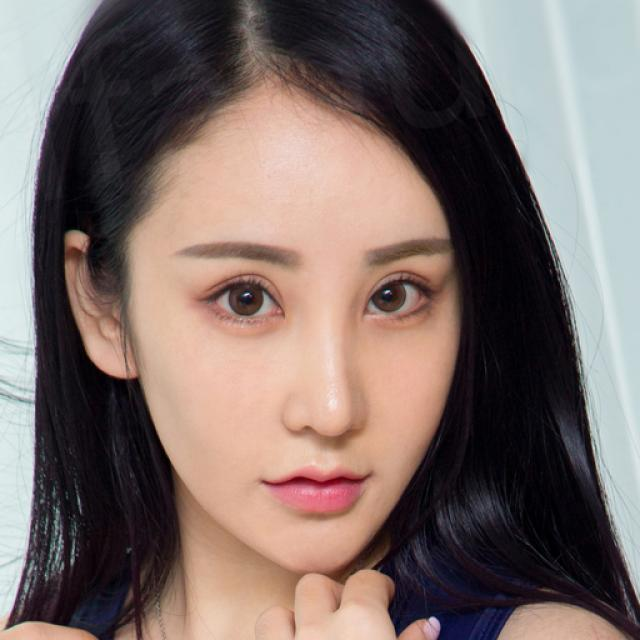0_rostro_limpio: (64, 0, 463, 572)
